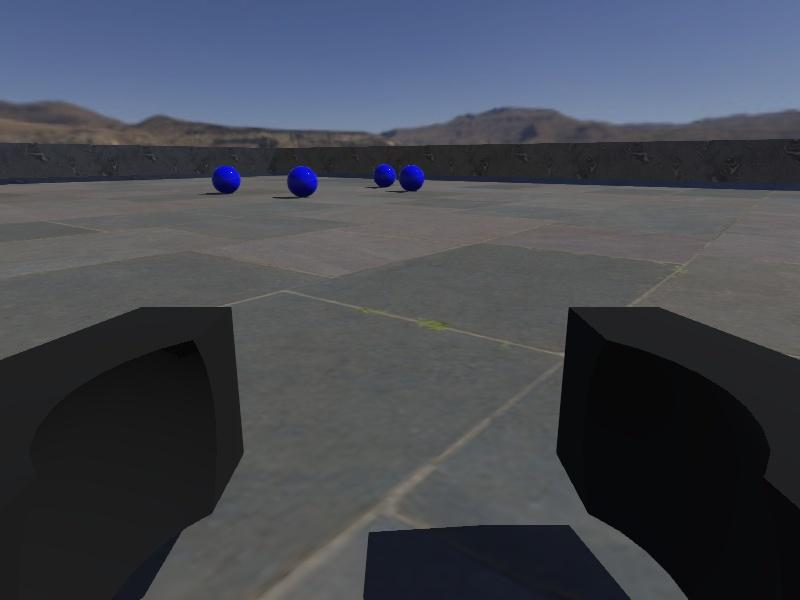blue ball: (286, 165, 318, 197), (212, 165, 241, 194), (398, 164, 426, 192), (374, 164, 397, 187)
